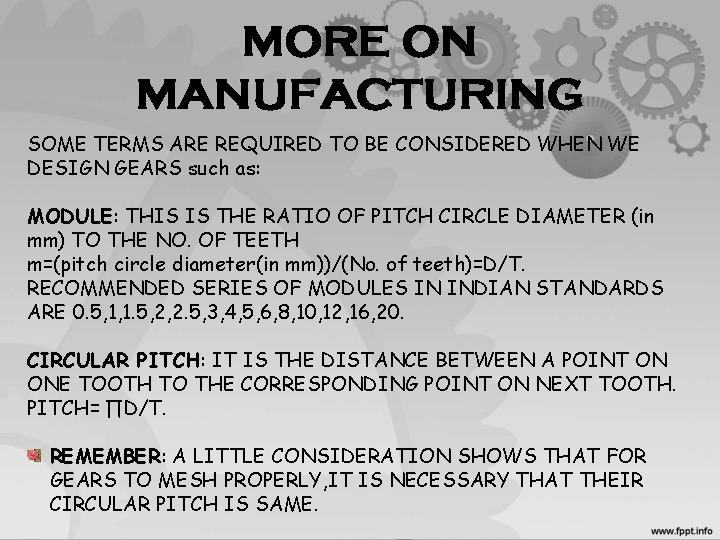paragraph: (20, 126, 708, 520)
subtitle: (25, 341, 212, 373), (44, 436, 175, 469), (23, 196, 125, 233)
title: (120, 11, 629, 122)
